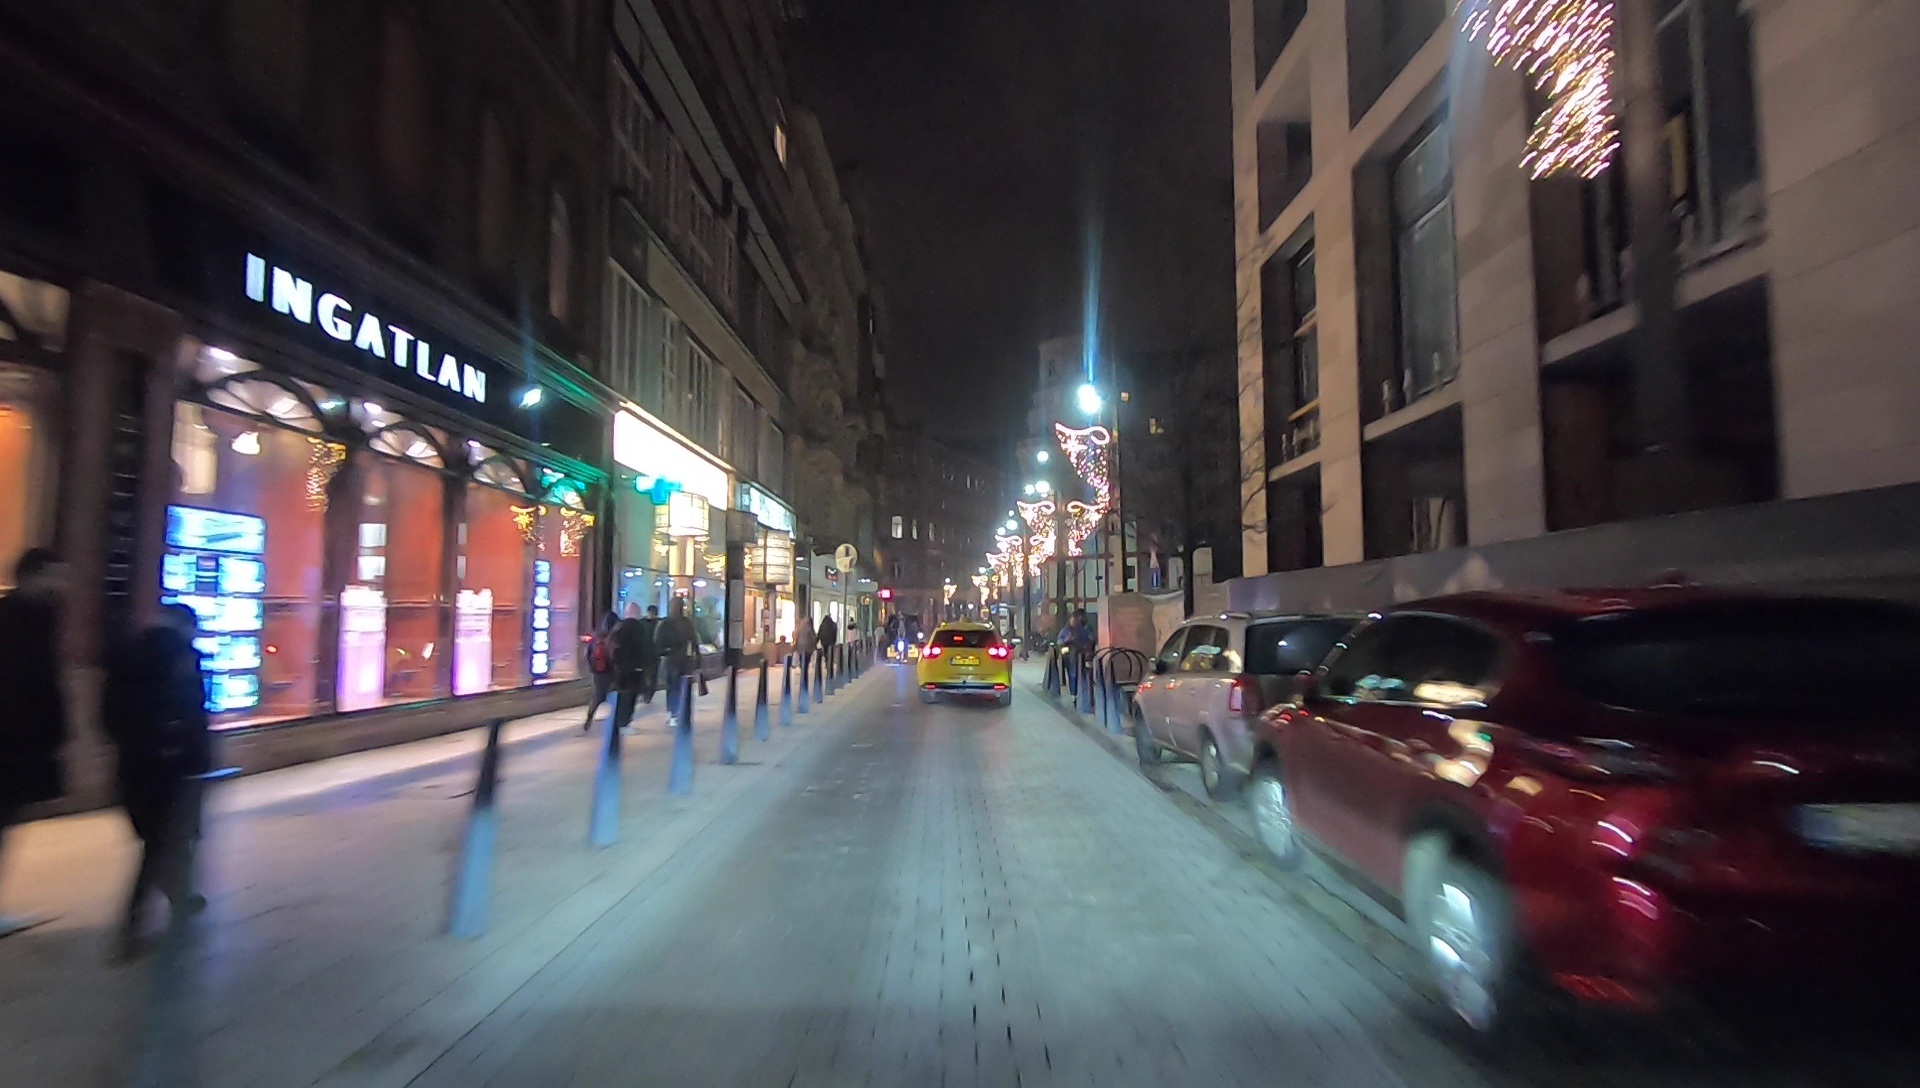person: (101, 606, 214, 947), (1, 554, 82, 935), (661, 601, 709, 726), (586, 612, 626, 734), (613, 601, 645, 736), (638, 598, 673, 715), (1060, 613, 1089, 701), (788, 613, 817, 677), (816, 612, 836, 676), (893, 613, 905, 663), (845, 616, 859, 659)
